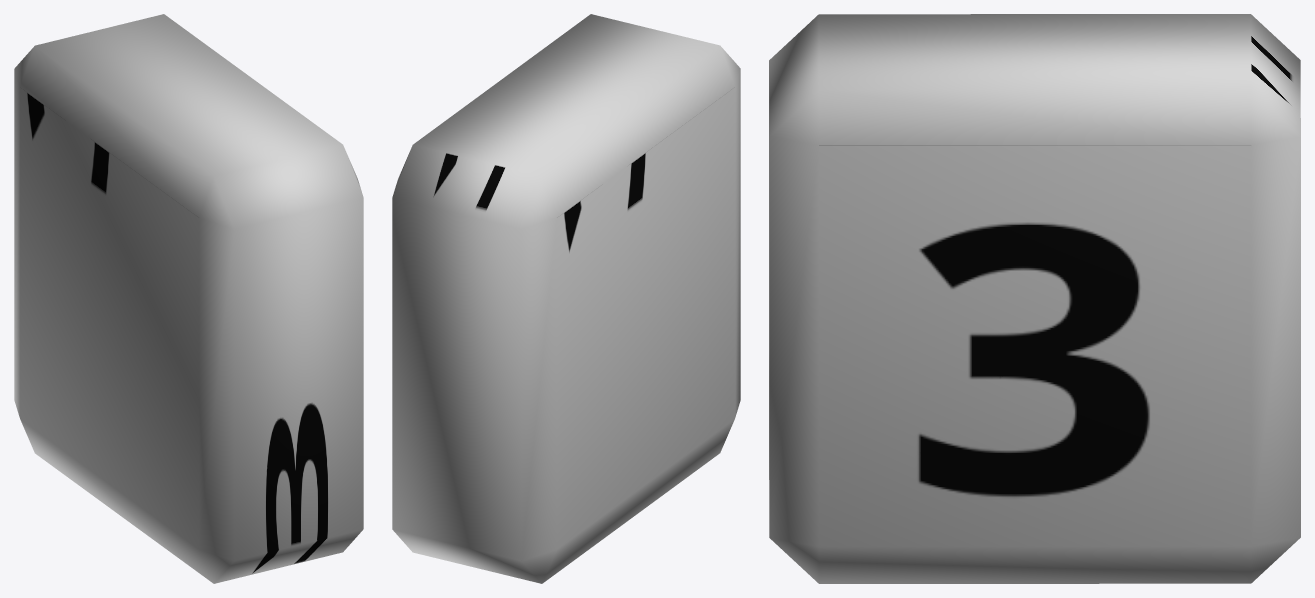
The model's file is Boton3.fbx.
3 views of the same model, side by side, from view 1: azimuth 30°, elevation 25°; view 2: azimuth 150°, elevation 25°; view 3: azimuth 270°, elevation 25° (orthographic). The views are drawn at different scales.
Visible parts, largest first — view 1: Boton3; view 2: Boton3; view 3: Boton3.
Boxes of the visible parts, left/top/right/bottom form: Boton3: left=14, top=14, right=363, bottom=583; Boton3: left=392, top=14, right=740, bottom=583; Boton3: left=769, top=14, right=1300, bottom=583.
Bounding box in the file's own units: 1.36 × 3.32 × 3.25.
